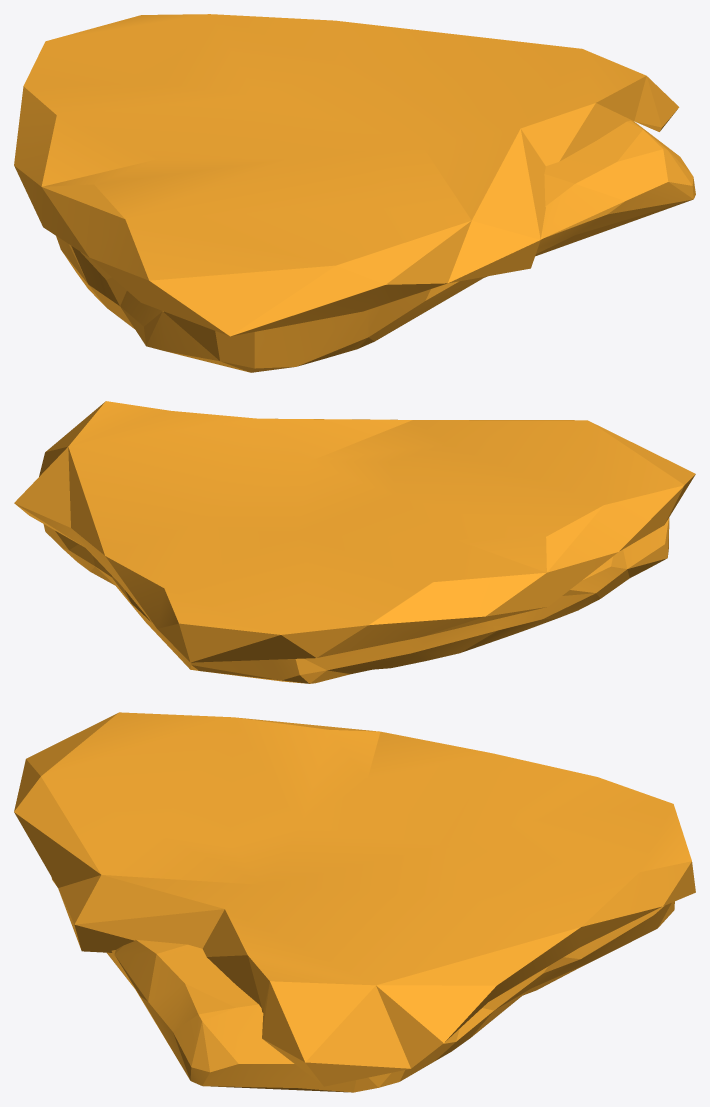
File: SM_Menhir_Flat_B_Snow.fbx
The picture shows the model from 3 angles, top to bottom: view 1: azimuth 30°, elevation 25°; view 2: azimuth 150°, elevation 25°; view 3: azimuth 270°, elevation 25°; orthographic projection. The views are drawn at different scales.
Parts seen in each view (by area): view 1: menhir-flat-b-snow; view 2: menhir-flat-b-snow; view 3: menhir-flat-b-snow.
Part boxes in pixels (x1=…): menhir-flat-b-snow: x1=14, y1=14, x2=695, y2=372; menhir-flat-b-snow: x1=14, y1=401, x2=695, y2=683; menhir-flat-b-snow: x1=14, y1=712, x2=695, y2=1092.
Size of the model in its own units: 6.78 by 1.09 by 6.44.
